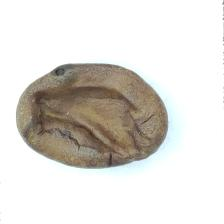NG: (33, 83, 150, 158)
